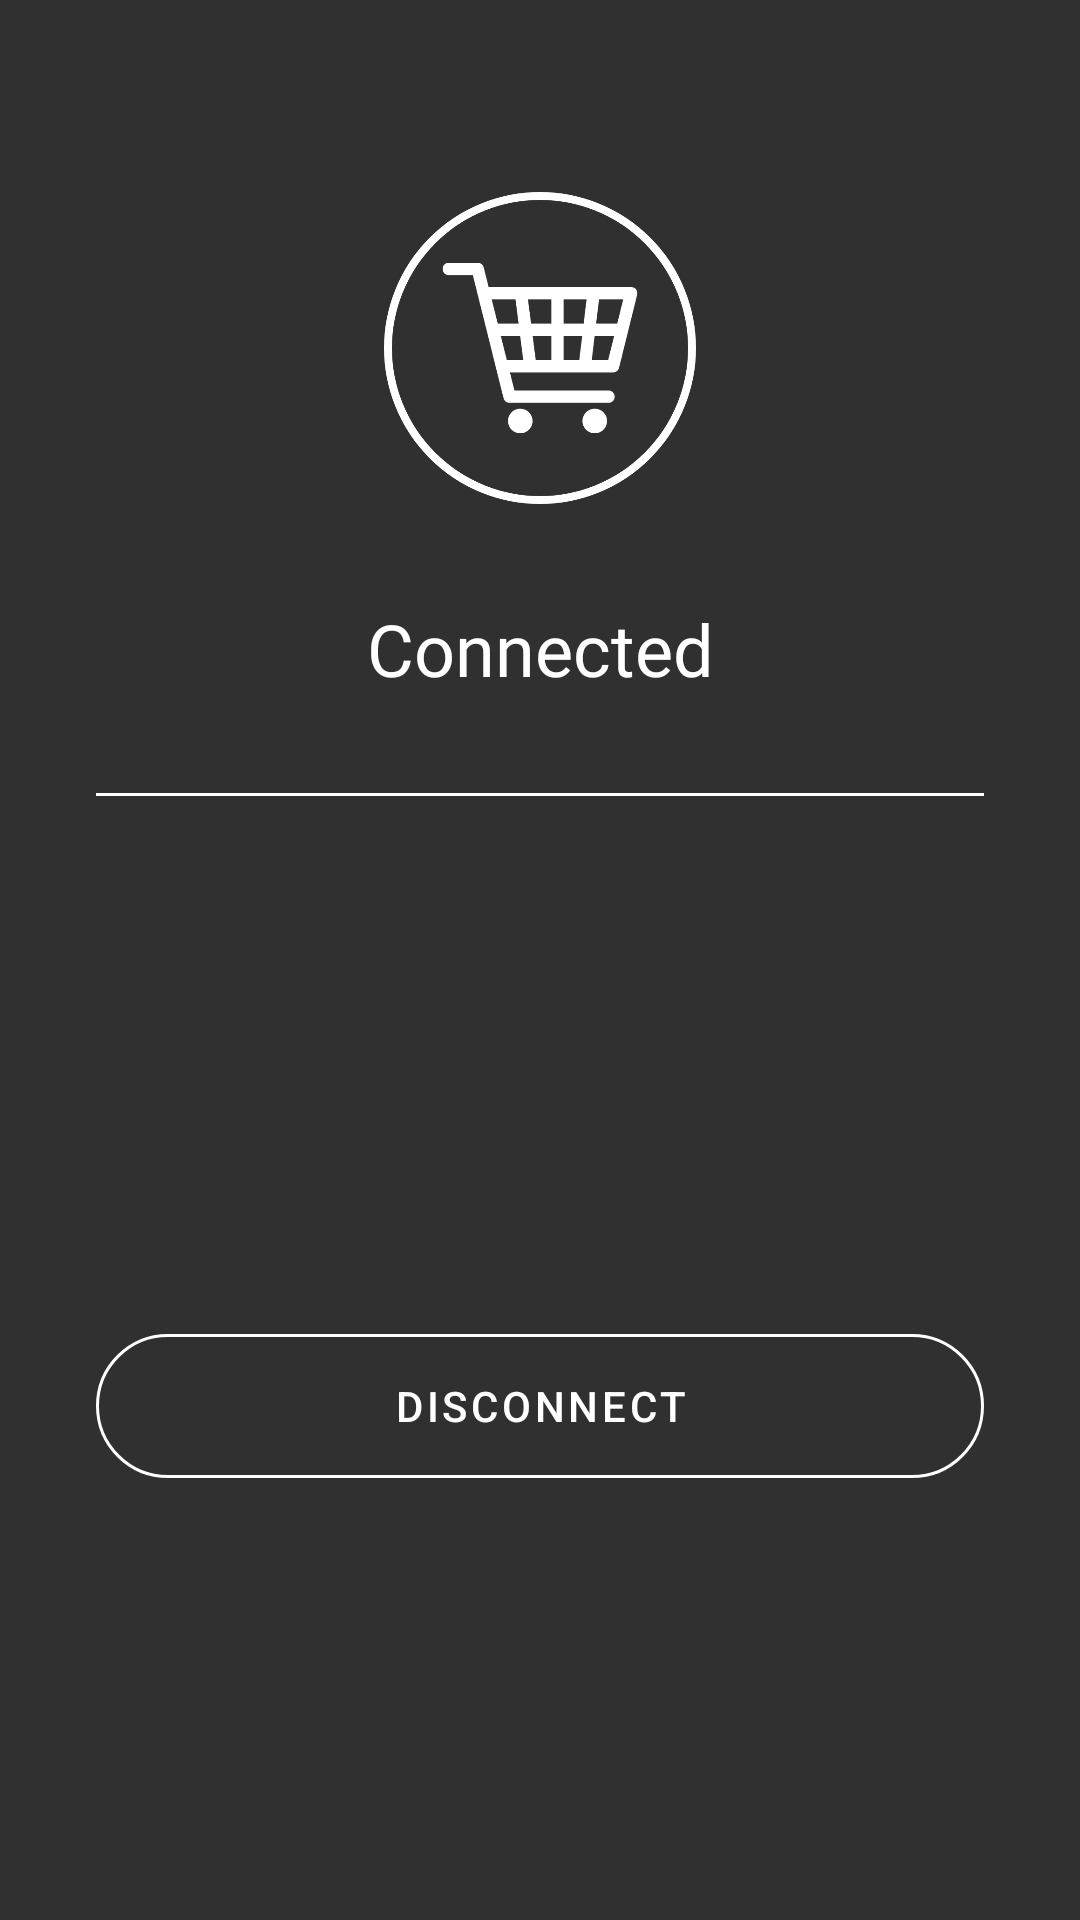

Icons on this 1080px×1920px Android screen, each with its box as BBox(x1, y1, x2, y2):
Cart Image: BBox(384, 192, 696, 504)
